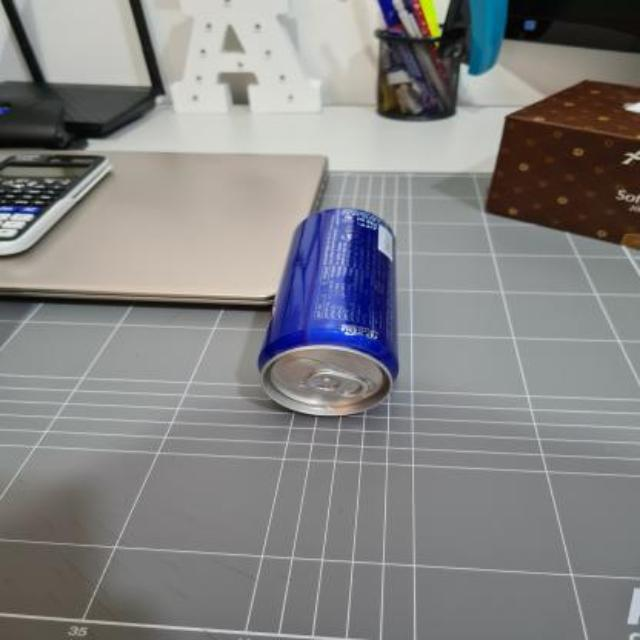metal: (257, 208, 395, 412)
